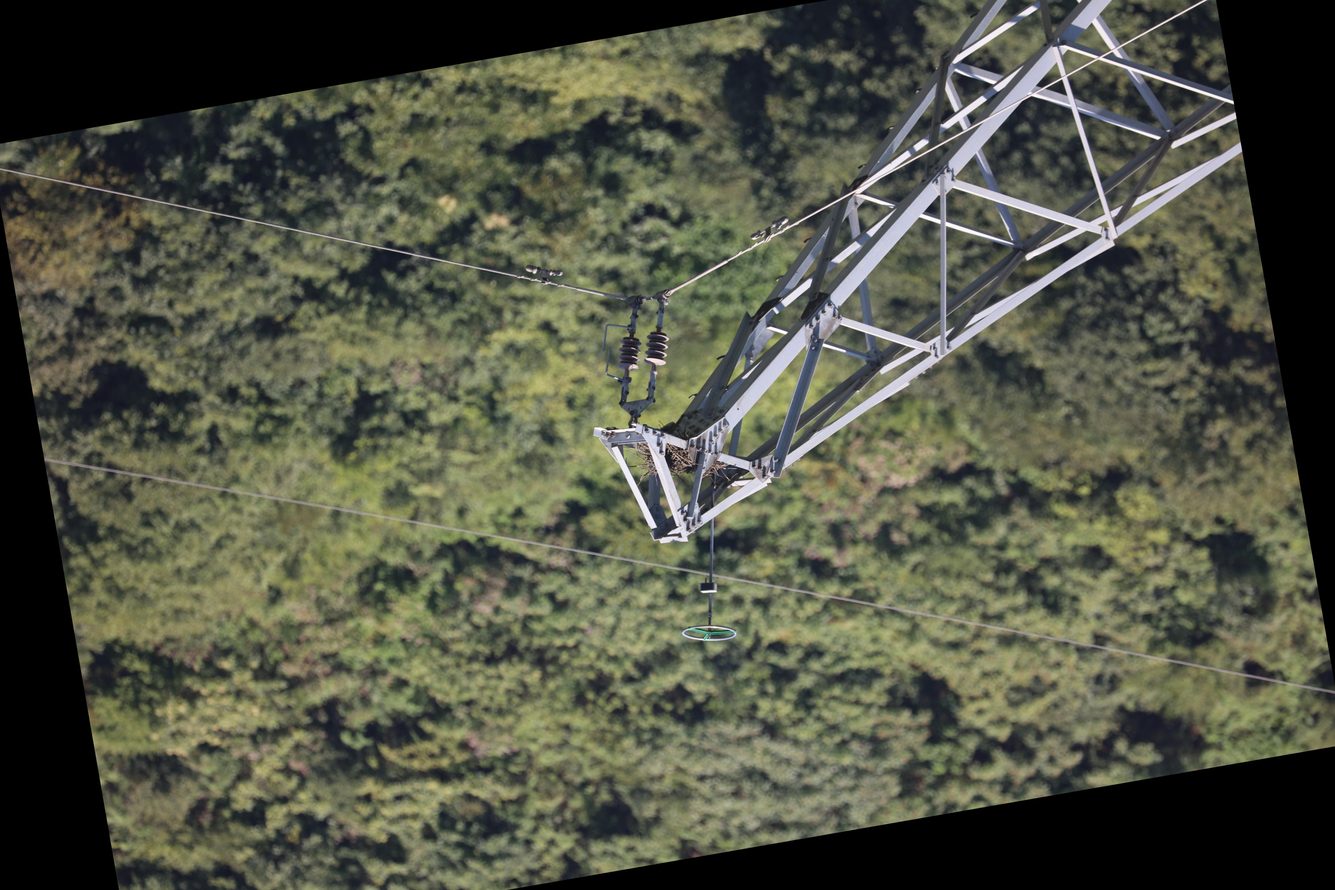damper: (746, 214, 794, 247), (522, 258, 566, 289)
